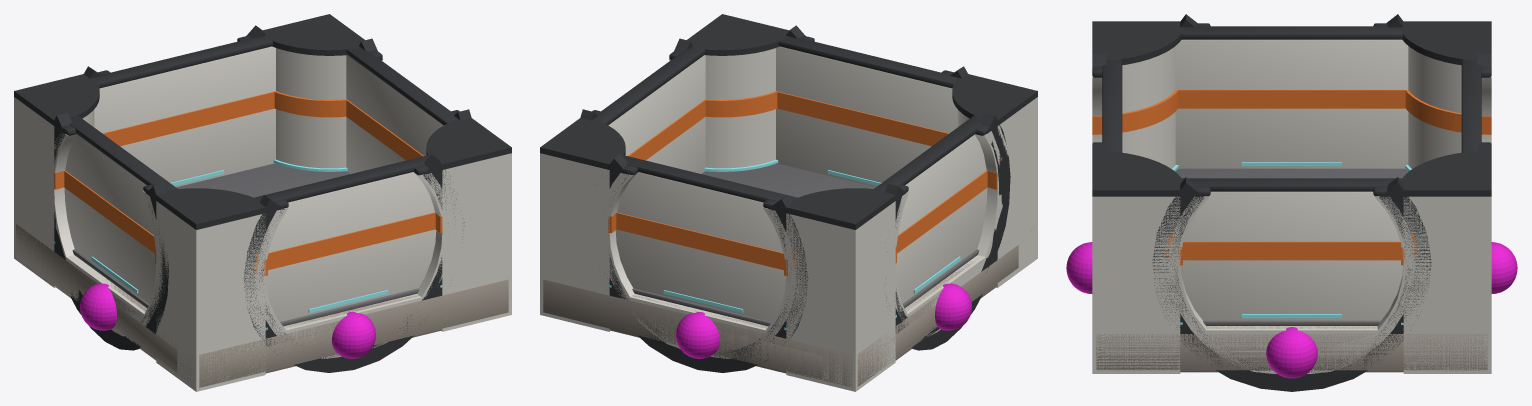
The model's file is tunnel_4_cut.gltf.
3 views of the same model, side by side, from view 1: azimuth 30°, elevation 25°; view 2: azimuth 150°, elevation 25°; view 3: azimuth 270°, elevation 25° (orthographic). The views are drawn at different scales.
Parts seen in each view (by area): view 1: TunnelJunction, %V%AnchorIn-, %V%AnchorIn.001-, %V%AnchorIn.003-, %V%AnchorIn+, %V%AnchorIn.002-, %V%AnchorIn.003+, %P%AnchorIn, %P%AnchorIn.003; view 2: TunnelJunction, %V%AnchorIn.001-, %V%AnchorIn-, %V%AnchorIn.003-, %V%AnchorIn.001+, %V%AnchorIn.002-, %V%AnchorIn.003+, %P%AnchorIn.001, %P%AnchorIn.003; view 3: TunnelJunction, %V%AnchorIn.003-, %V%AnchorIn.002-, %V%AnchorIn.002+, %P%AnchorIn.002, %V%AnchorIn.001-, %V%AnchorIn-, %P%AnchorIn, %P%AnchorIn.001, %V%AnchorIn.001+, %V%AnchorIn+, %V%AnchorIn.003+.
Boxes of the visible parts, x1,y1,x2,y2 form: TunnelJunction: (14, 14, 511, 391); %V%AnchorIn-: (254, 155, 436, 321); %V%AnchorIn.001-: (94, 36, 276, 187); %V%AnchorIn.003-: (64, 115, 177, 303); %V%AnchorIn+: (229, 154, 464, 378); %V%AnchorIn.002-: (346, 47, 457, 173); %V%AnchorIn.003+: (54, 113, 177, 372); %P%AnchorIn: (332, 312, 375, 358); %P%AnchorIn.003: (80, 283, 116, 330); TunnelJunction: (540, 14, 1037, 391); %V%AnchorIn.001-: (615, 155, 797, 321); %V%AnchorIn-: (776, 36, 957, 187); %V%AnchorIn.003-: (874, 115, 987, 303); %V%AnchorIn.001+: (603, 154, 822, 378); %V%AnchorIn.002-: (594, 47, 705, 173); %V%AnchorIn.003+: (874, 113, 1018, 371); %P%AnchorIn.001: (676, 312, 719, 358); %P%AnchorIn.003: (935, 283, 971, 330); TunnelJunction: (1092, 21, 1491, 373); %V%AnchorIn.003-: (1175, 26, 1408, 168); %V%AnchorIn.002-: (1180, 178, 1403, 320); %V%AnchorIn.002+: (1134, 177, 1448, 391); %P%AnchorIn.002: (1266, 327, 1317, 378); %V%AnchorIn.001-: (1461, 59, 1481, 152); %V%AnchorIn-: (1102, 59, 1122, 152); %P%AnchorIn: (1066, 242, 1092, 293); %P%AnchorIn.001: (1491, 242, 1517, 293); %V%AnchorIn.001+: (1477, 53, 1491, 152); %V%AnchorIn+: (1092, 53, 1106, 152); %V%AnchorIn.003+: (1180, 14, 1403, 27).
Bounding box in the file's own units: 2.26 × 1.16 × 2.26.
